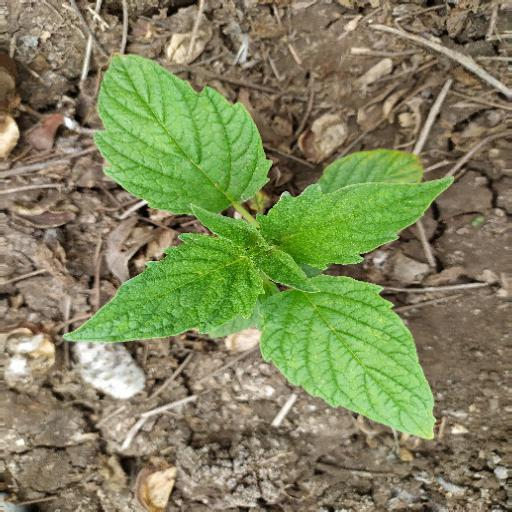crop: (64, 54, 453, 451)
